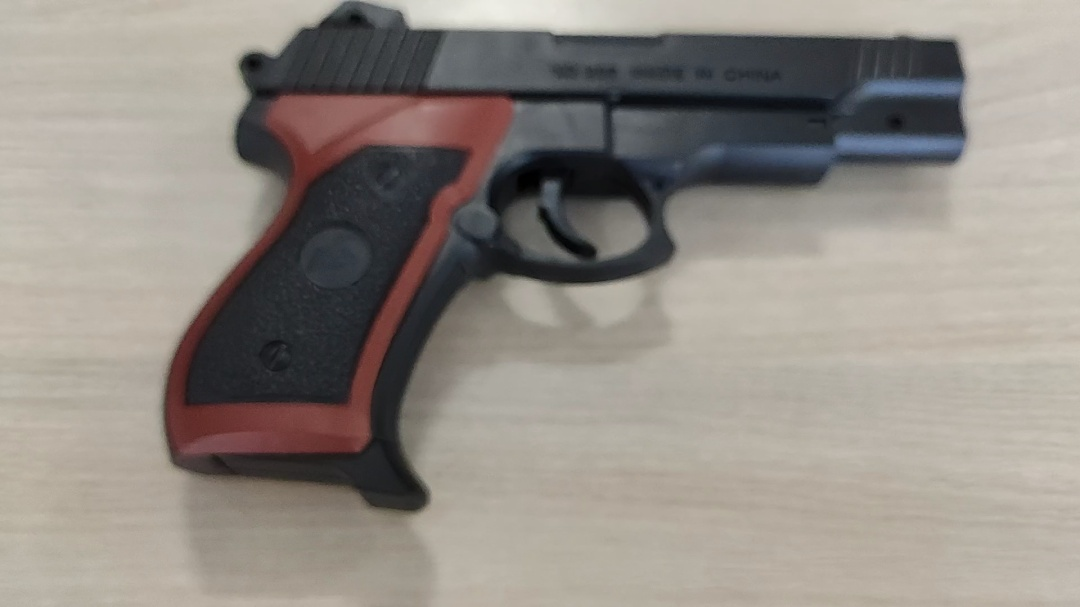gun: (364, 235, 523, 311)
